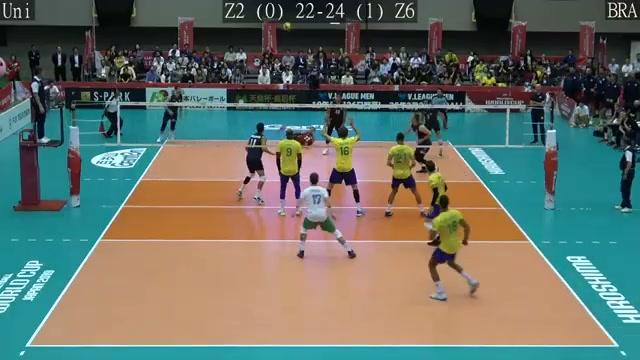ball: (283, 19, 293, 34)
